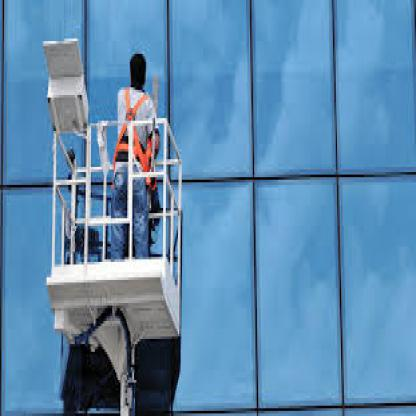window: (260, 177, 337, 406), (166, 0, 253, 180), (251, 0, 336, 175), (344, 187, 413, 398), (335, 0, 414, 172)
